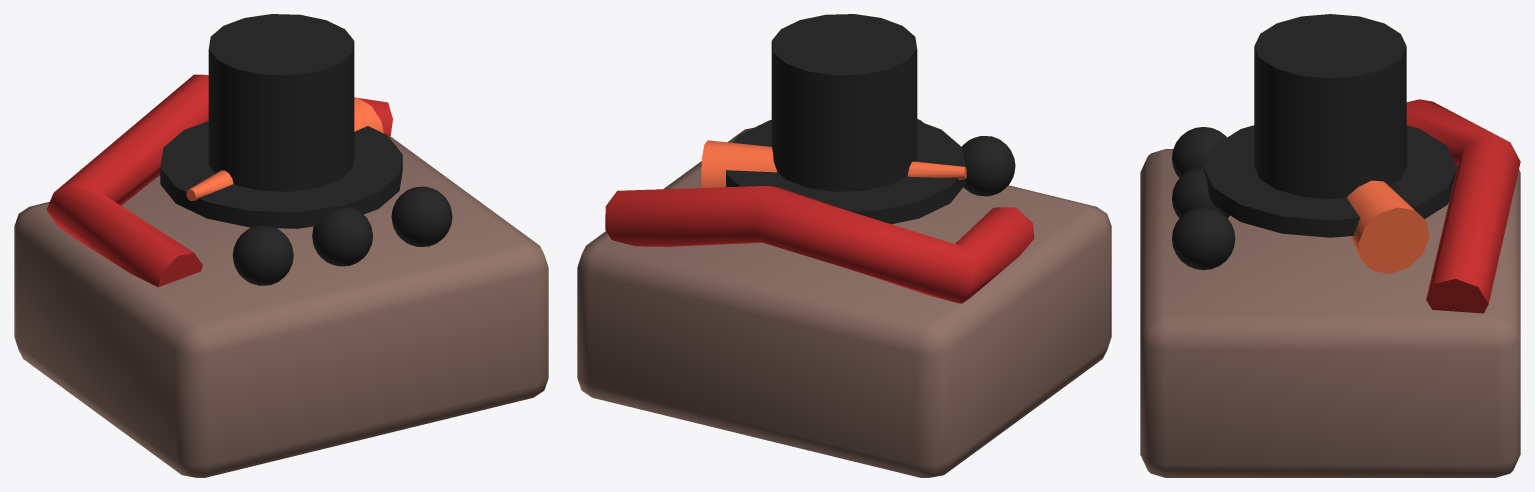
File: snowman_kit.fbx
3 renders of one model, left to right at view 1: azimuth 30°, elevation 25°; view 2: azimuth 150°, elevation 25°; view 3: azimuth 270°, elevation 25°, orthographic. The views are drawn at different scales.
Visible parts, largest first — view 1: Snowman Kit; view 2: Snowman Kit; view 3: Snowman Kit.
Boxes of the visible parts, x1,y1,x2,y2 form: Snowman Kit: [14, 14, 548, 477]; Snowman Kit: [577, 14, 1111, 477]; Snowman Kit: [1140, 14, 1520, 477].
Bounding box in the file's own units: 0.7 × 0.605 × 0.6.
